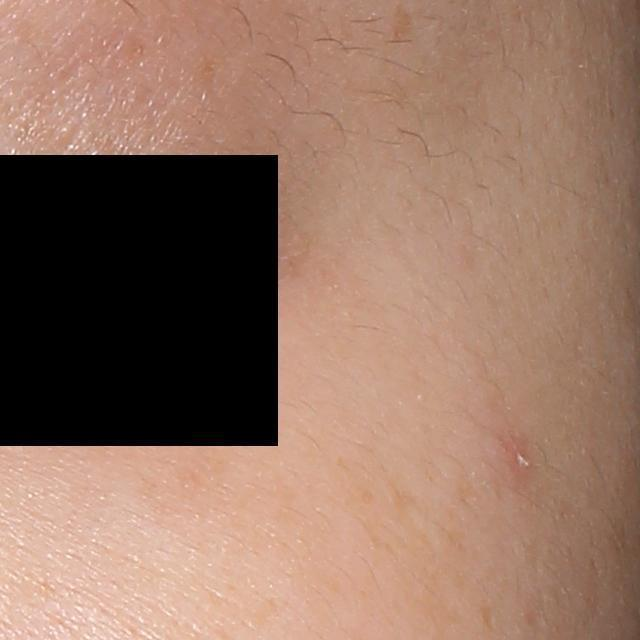melasma: (388, 2, 417, 41)
